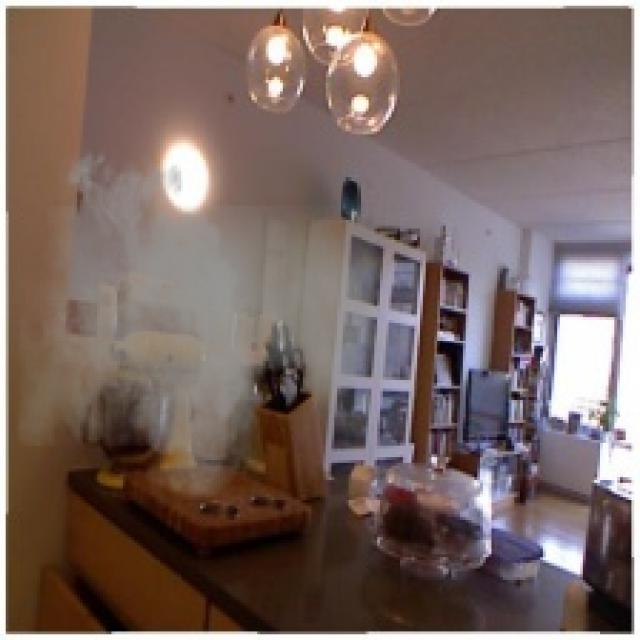smoke: (17, 140, 383, 511)
